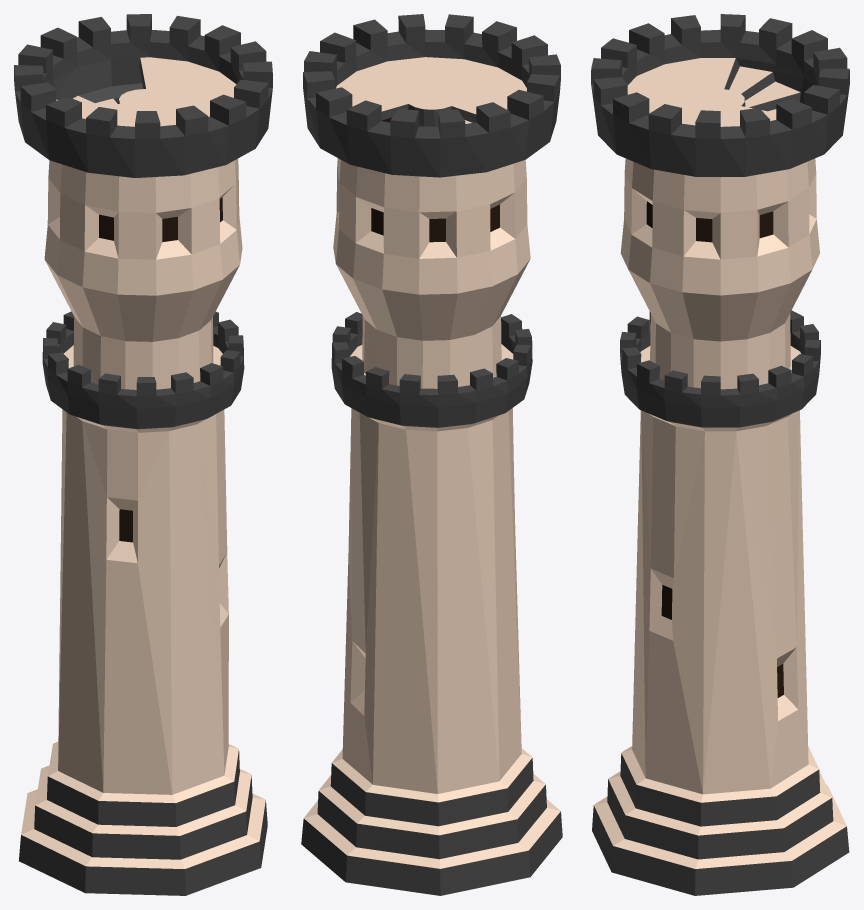
The model's file is tour-2.glb.
3 renders of one model, left to right at view 1: azimuth 30°, elevation 25°; view 2: azimuth 150°, elevation 25°; view 3: azimuth 270°, elevation 25°, orthographic.
Visible parts, largest first — view 1: Castle.008_Medieval_0; view 2: Castle.008_Medieval_0; view 3: Castle.008_Medieval_0.
Part boxes in pixels (x1,y1,x2,y2): Castle.008_Medieval_0: (14,14,272,895); Castle.008_Medieval_0: (301,14,562,895); Castle.008_Medieval_0: (591,14,849,895).
Size of what is drawn, in the model's own units: 4.22 by 13.9 by 4.22.
Materials: 1 (1 with a texture image).
